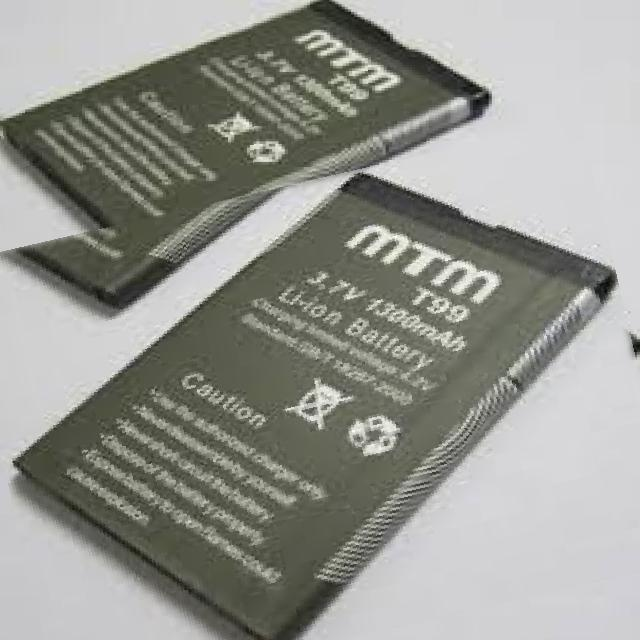Battery: (0, 160, 634, 639), (2, 0, 493, 248)
